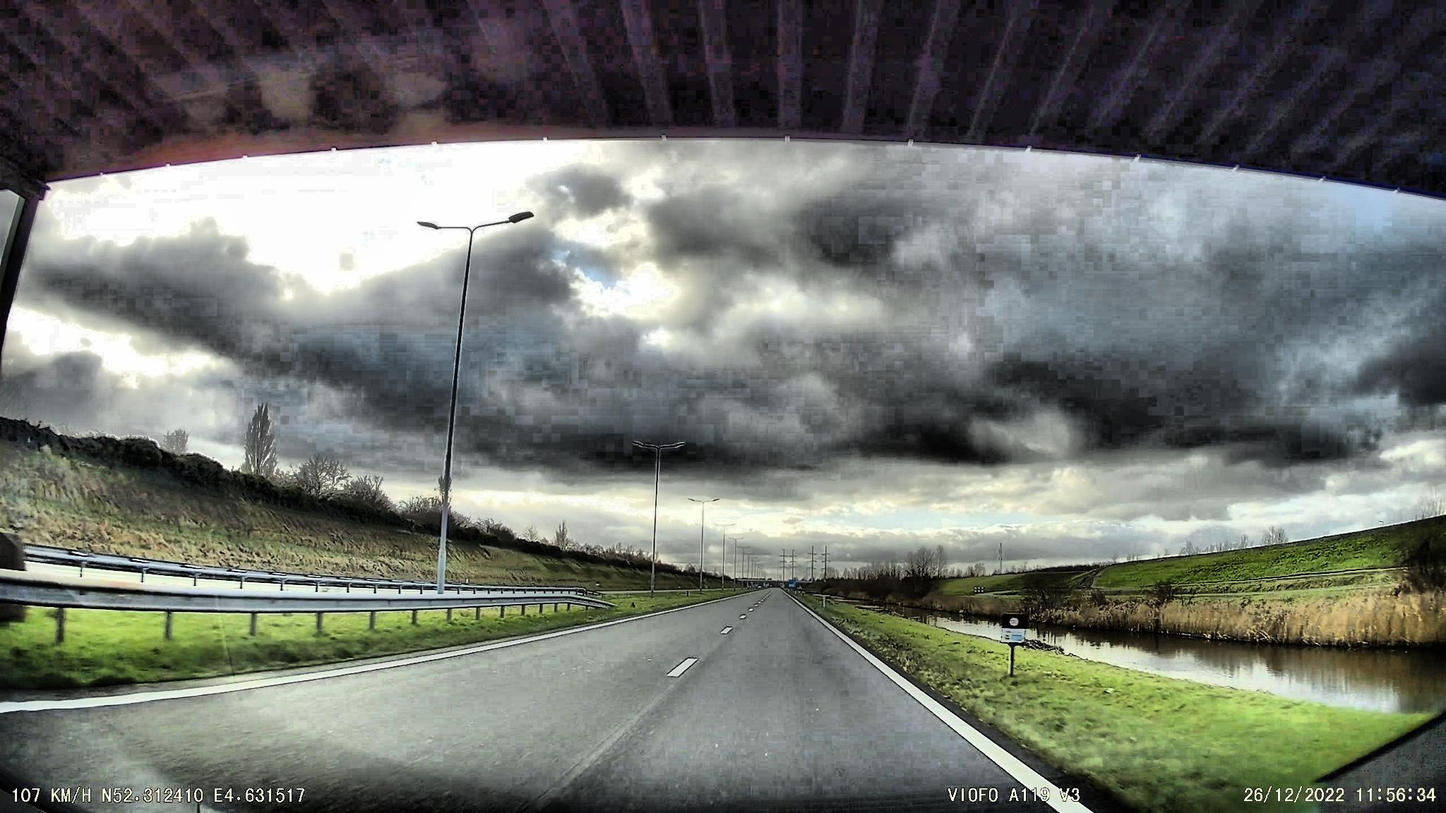Roads: (0, 589, 1128, 813)
